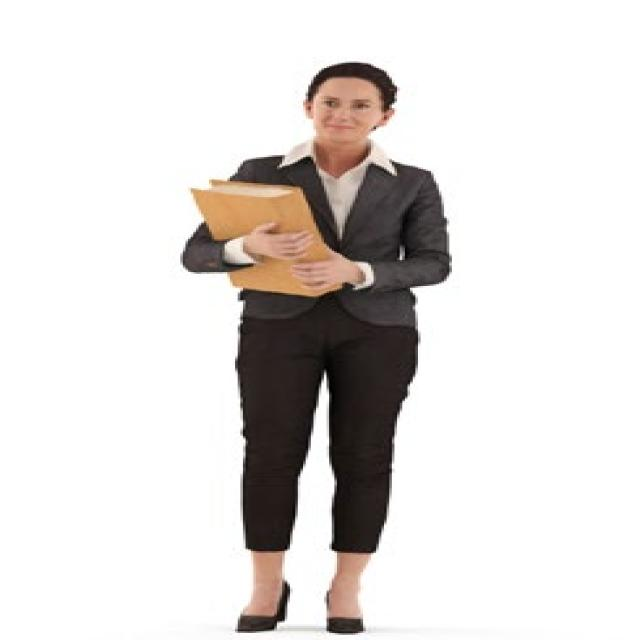standing: (177, 57, 455, 634)
